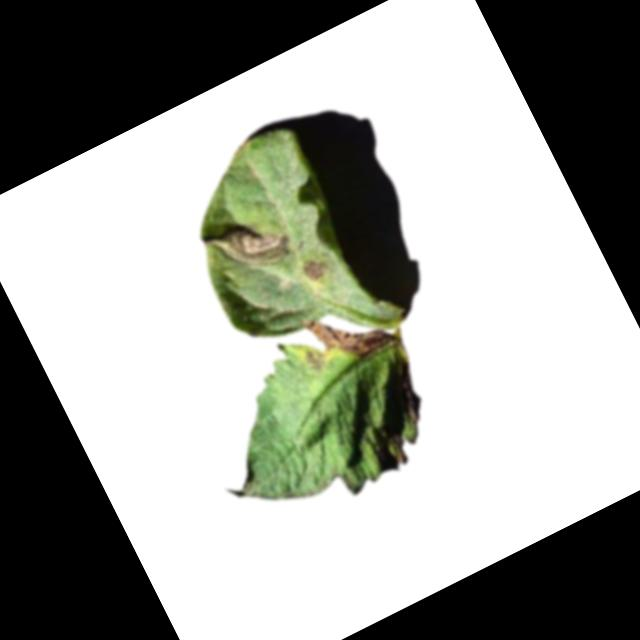Early_blight: (299, 284, 395, 378), (212, 205, 297, 282), (299, 251, 333, 285), (383, 431, 412, 468)
